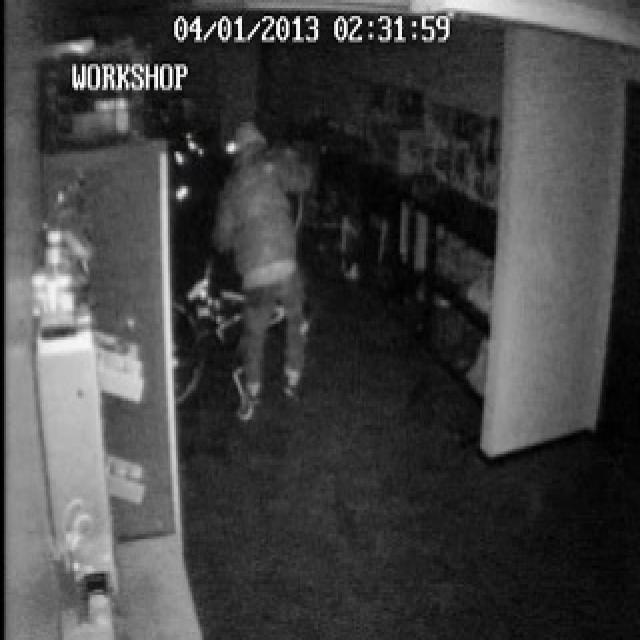thief: (208, 98, 314, 403)
